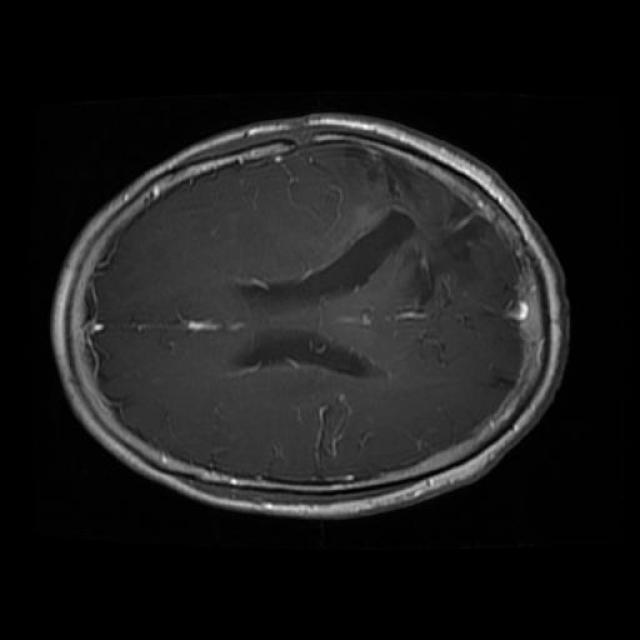Glioma: (401, 193, 481, 318), (341, 145, 418, 200)
